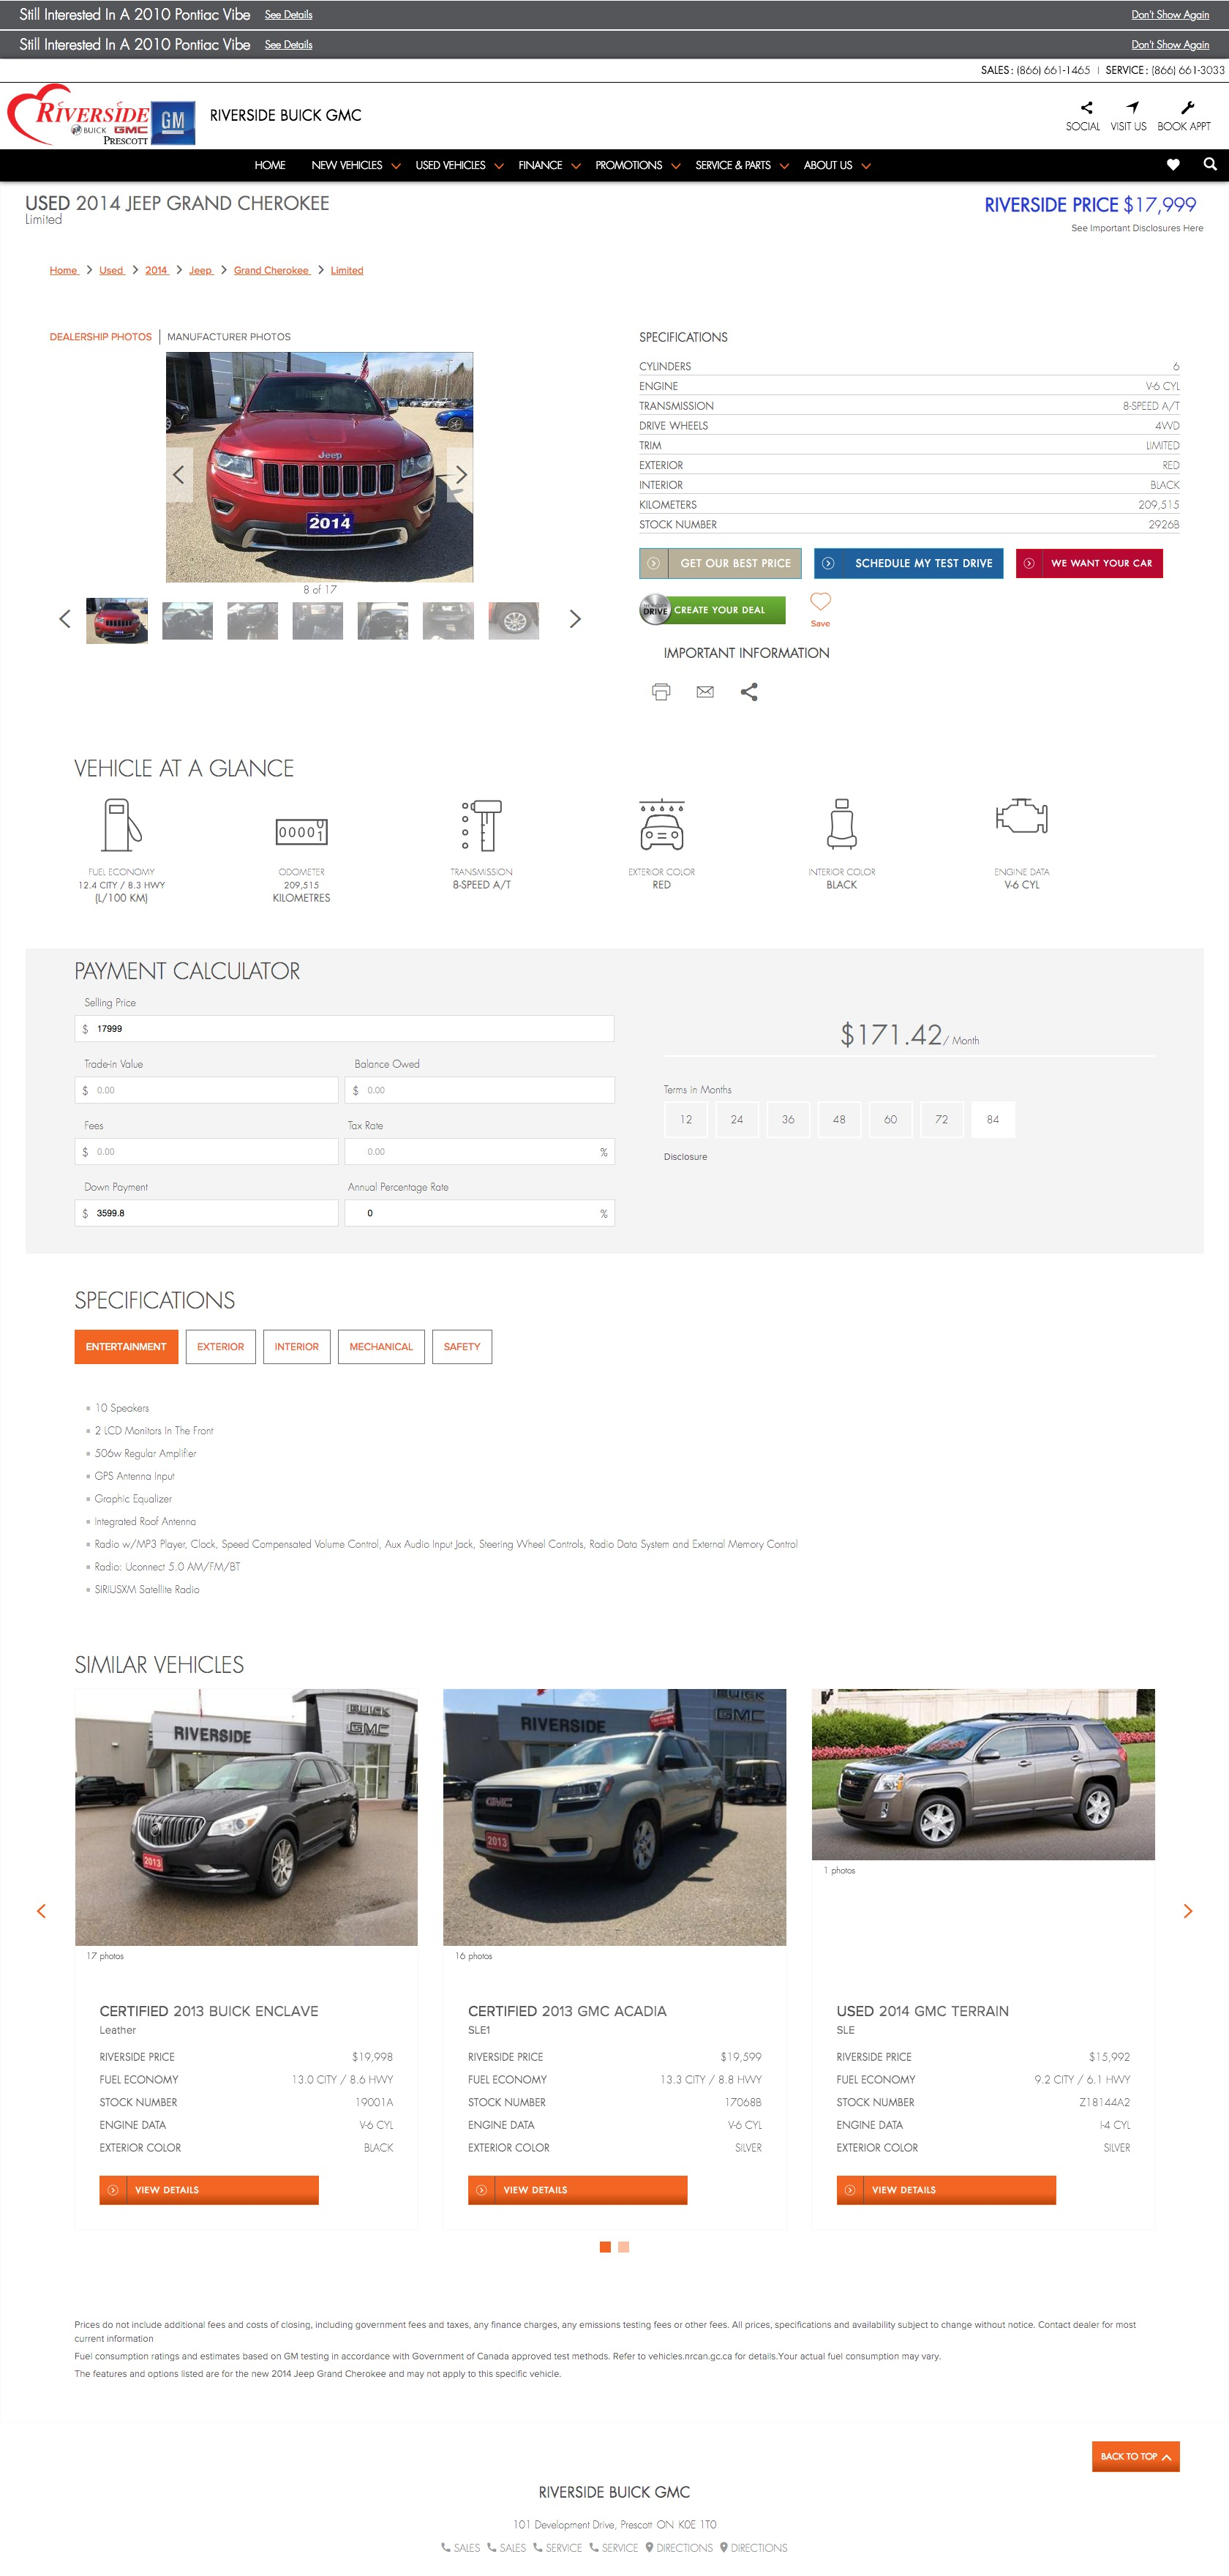car: (570, 609, 582, 629)
